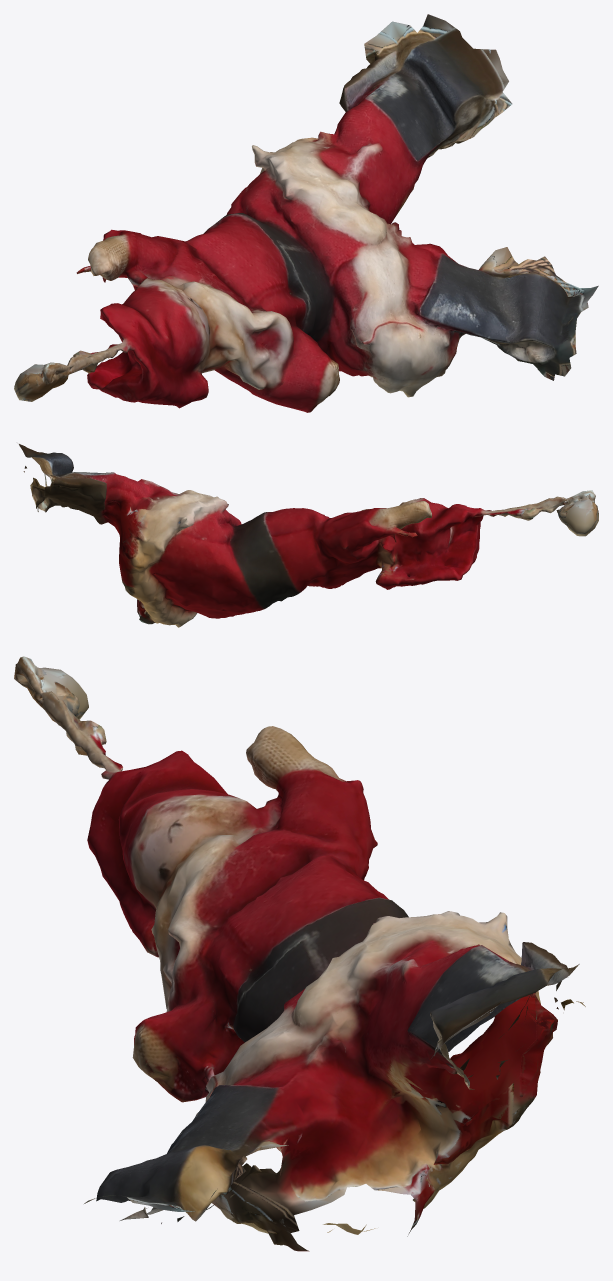
The model's file is 3DModel_LowPoly.gltf.
3 views of the same model, one above another, from view 1: azimuth 30°, elevation 25°; view 2: azimuth 150°, elevation 25°; view 3: azimuth 270°, elevation 25° (orthographic). The views are drawn at different scales.
Parts seen in each view (by area): view 1: defaultobject; view 2: defaultobject; view 3: defaultobject.
Boxes of the visible parts, left/top/right/bottom form: defaultobject: left=14, top=14, right=598, bottom=412; defaultobject: left=19, top=444, right=598, bottom=627; defaultobject: left=14, top=656, right=585, bottom=1251.
Size of the model in its own units: 8.41 by 3.41 by 4.87.
Materials: 1 (1 with a texture image).
